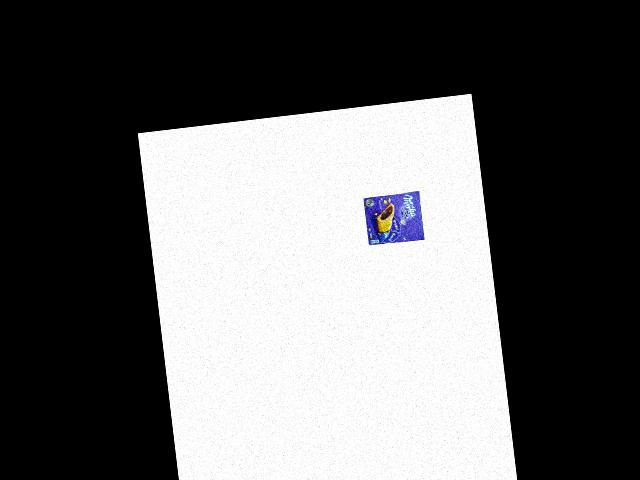chocolate: (359, 187, 428, 248)
